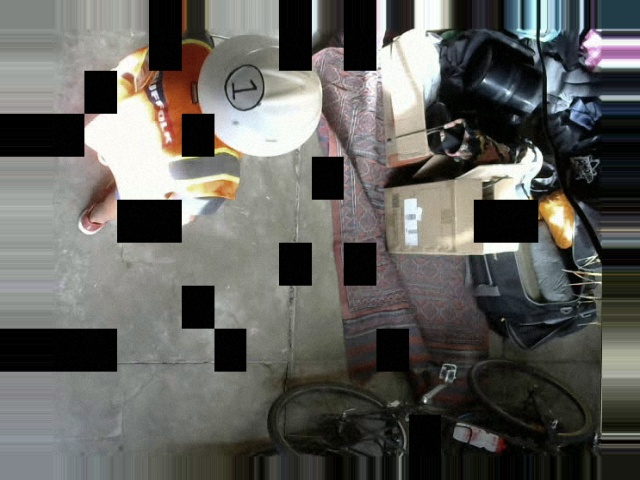one: (223, 64, 264, 111)
